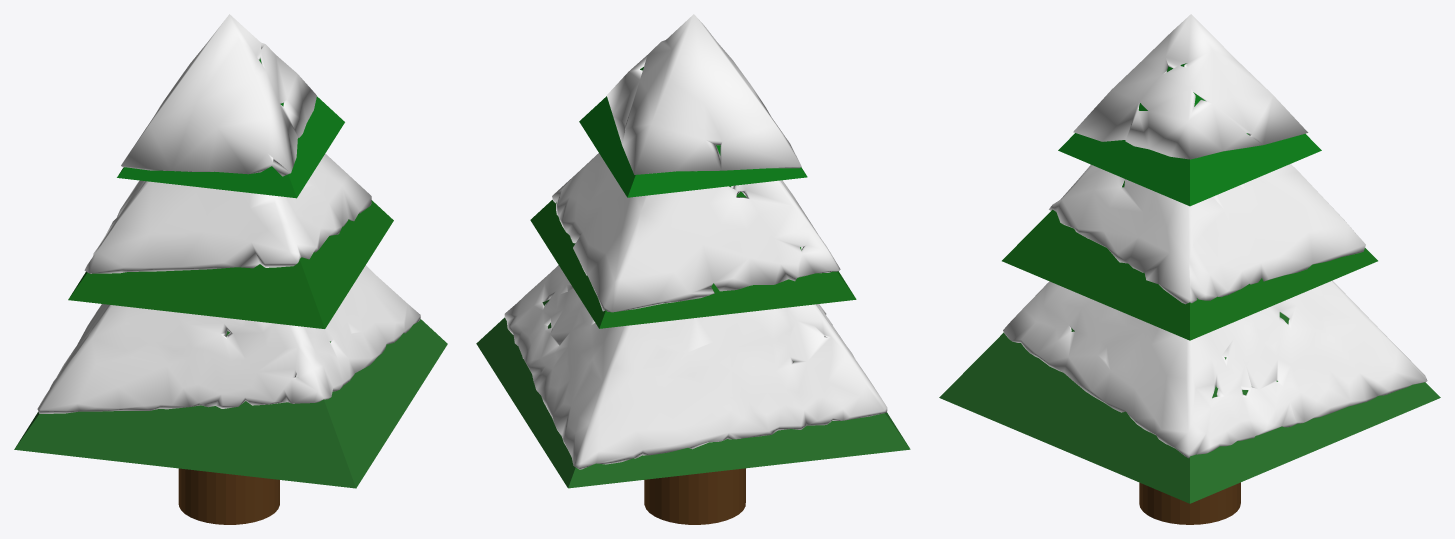
The model's file is SnowTree.fbx.
3 views of the same model, side by side, from view 1: azimuth 30°, elevation 25°; view 2: azimuth 150°, elevation 25°; view 3: azimuth 270°, elevation 25° (orthographic).
Parts seen in each view (by area): view 1: SnowBall.001, 円錐.005; view 2: SnowBall.001, 円錐.005; view 3: SnowBall.001, 円錐.005.
Boxes of the visible parts, <box> form: SnowBall.001: <box>37,14,420,413</box>; 円錐.005: <box>14,58,447,524</box>; SnowBall.001: <box>504,14,887,469</box>; 円錐.005: <box>476,67,910,524</box>; SnowBall.001: <box>1003,14,1427,458</box>; 円錐.005: <box>939,63,1440,524</box>.
Size of the model in its own units: 1027 by 1106 by 1027.
